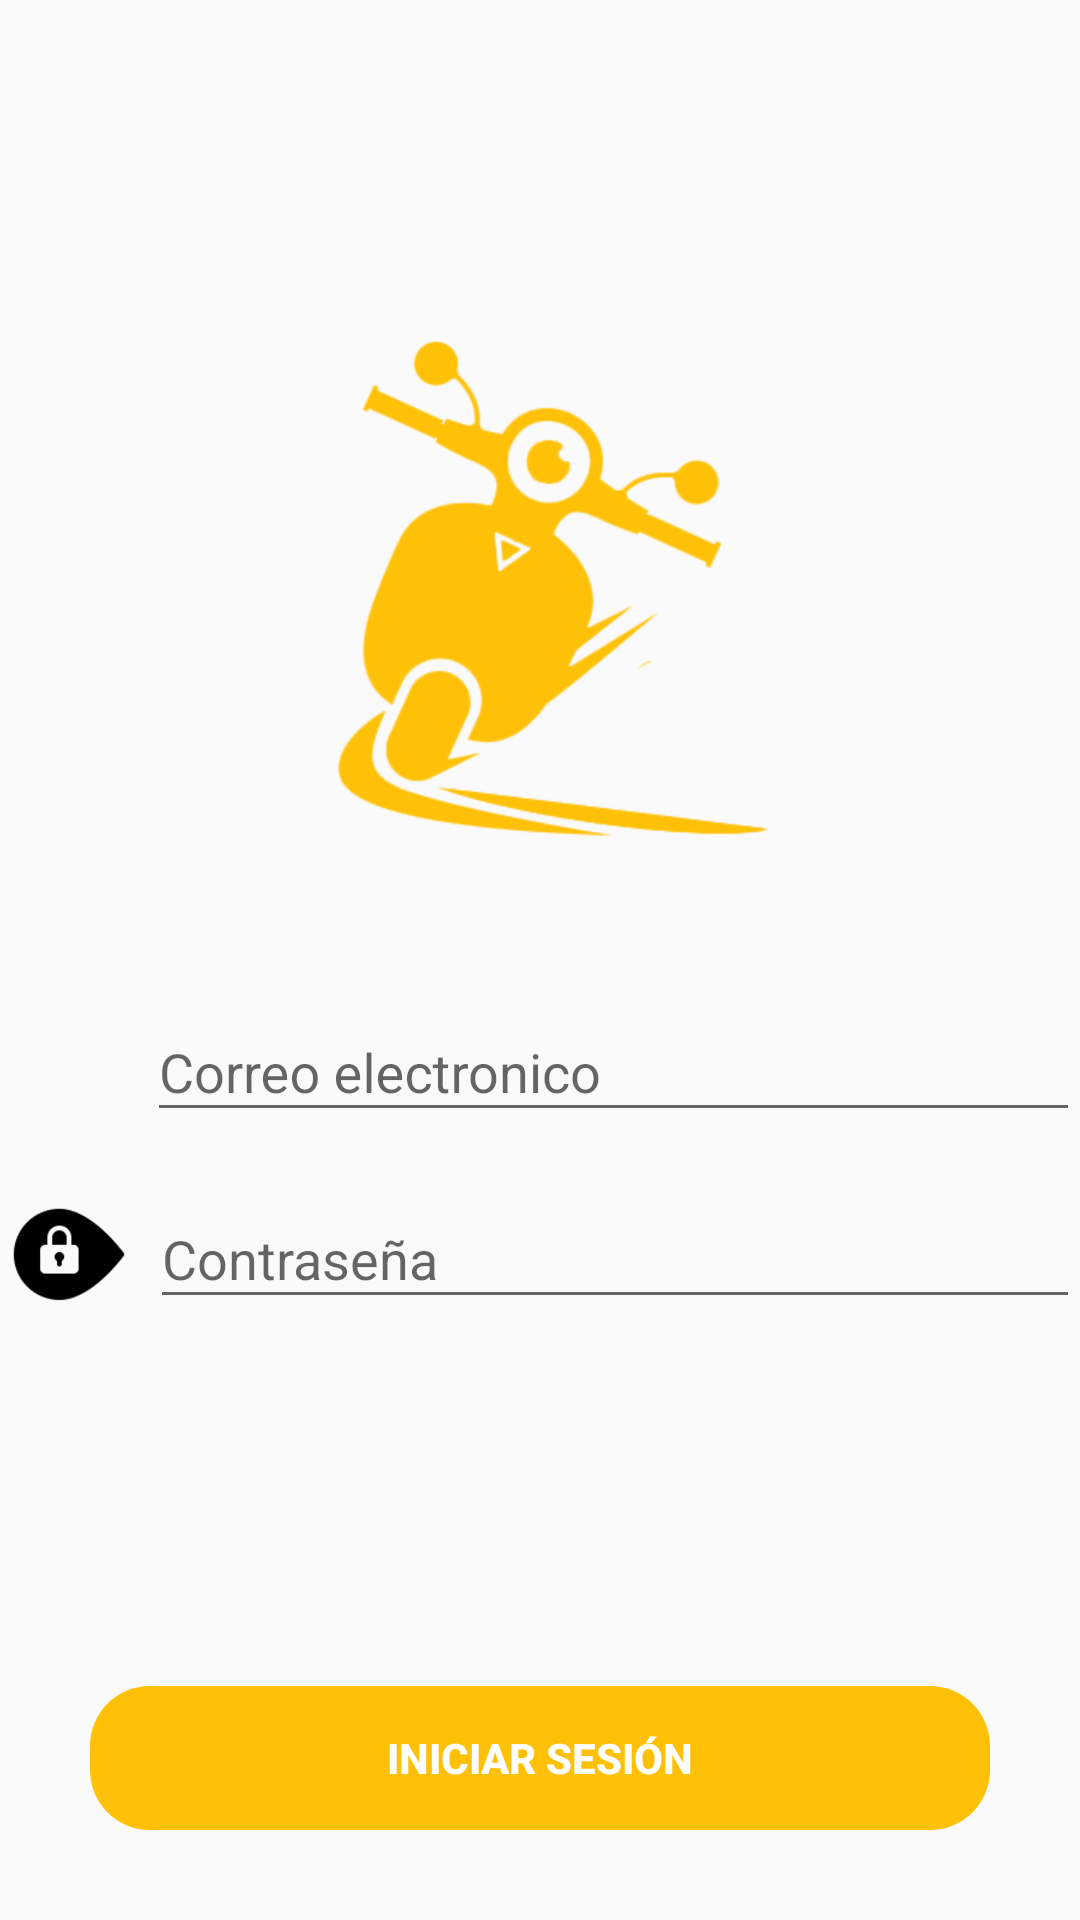

Icon bounding boxes for this 1080×1920 phone screenshot, format box=[x1, y1, x2, y2]:
iconpassword: box=[13, 1208, 125, 1300]
